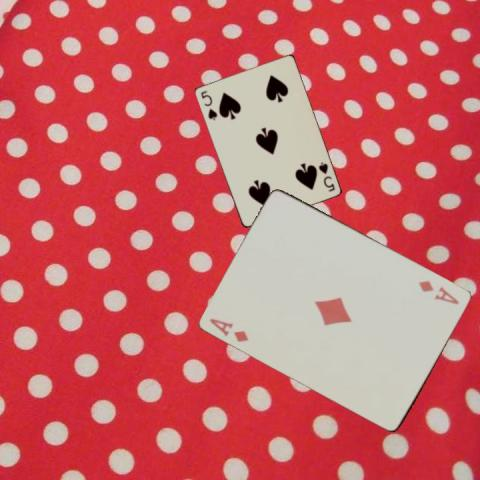5s: (197, 88, 219, 122), (315, 158, 336, 192)
Ad: (415, 277, 461, 306), (206, 315, 250, 343)
